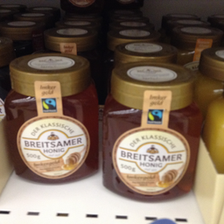honey: (2, 51, 104, 186), (102, 61, 201, 200)
